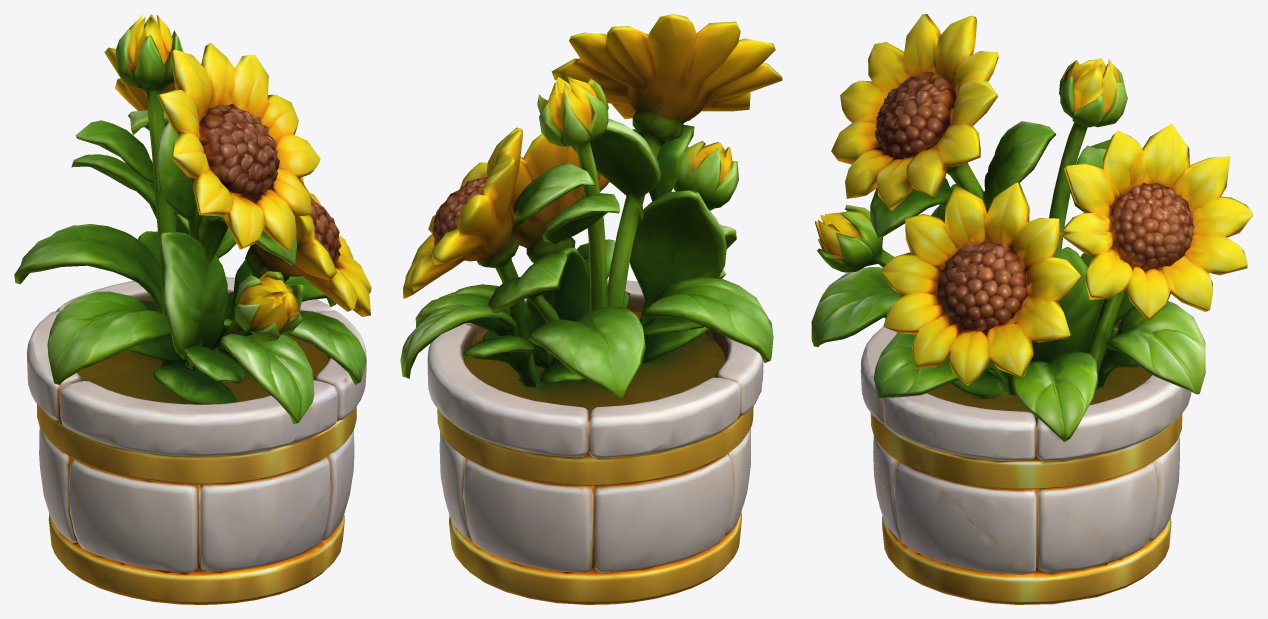
File: HaloFlowerPotHQ_Sunflower_HD_src.glb
3 views of the same model, side by side, from view 1: azimuth 30°, elevation 25°; view 2: azimuth 150°, elevation 25°; view 3: azimuth 270°, elevation 25° (orthographic). The views are drawn at different scales.
Visible parts, largest first — view 1: tripo_node_b72cb717-8551-4ad2-8a8b-5ebe708e71d9; view 2: tripo_node_b72cb717-8551-4ad2-8a8b-5ebe708e71d9; view 3: tripo_node_b72cb717-8551-4ad2-8a8b-5ebe708e71d9.
Boxes of the visible parts, left/top/right/bottom form: tripo_node_b72cb717-8551-4ad2-8a8b-5ebe708e71d9: left=14, top=14, right=371, bottom=604; tripo_node_b72cb717-8551-4ad2-8a8b-5ebe708e71d9: left=400, top=14, right=782, bottom=604; tripo_node_b72cb717-8551-4ad2-8a8b-5ebe708e71d9: left=811, top=14, right=1253, bottom=604.
Bounding box in the file's own units: 0.62 × 0.9818 × 0.772.
1 material, 1 textured.
